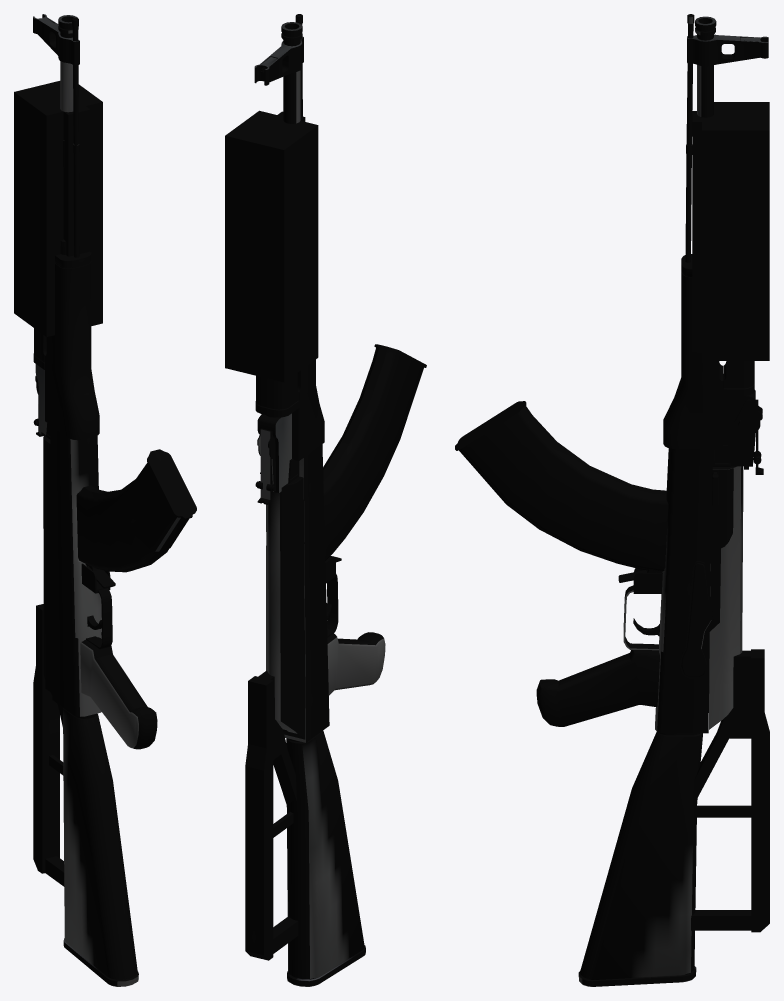
File: AK47__Handguard_AK_Quad__Stock_AK_Folding.fbx
The picture shows the model from 3 angles, left to right: view 1: azimuth 30°, elevation 25°; view 2: azimuth 150°, elevation 25°; view 3: azimuth 270°, elevation 25°; orthographic projection. The views are drawn at different scales.
Visible parts, largest first — view 1: asset_AK47.001; view 2: asset_AK47.001; view 3: asset_AK47.001.
Boxes of the visible parts, x1,y1,x2,y2 form: asset_AK47.001: [14, 14, 196, 986]; asset_AK47.001: [225, 14, 426, 986]; asset_AK47.001: [455, 14, 769, 986].
Bounding box in the file's own units: 0.0336 × 0.528 × 0.1561.
